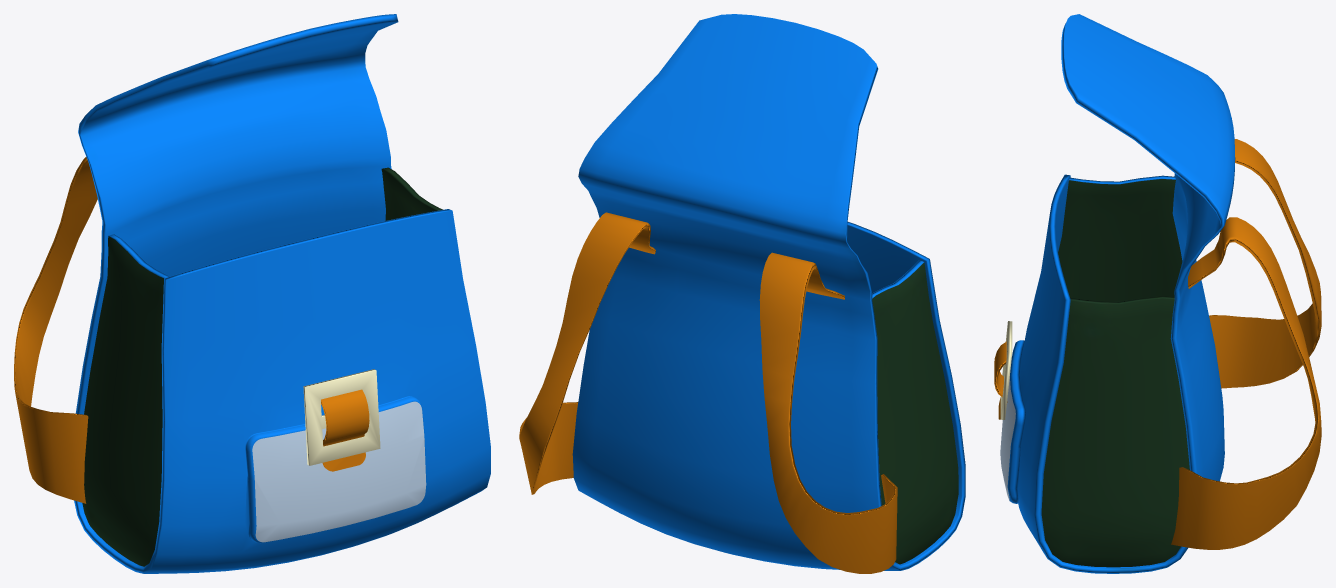
Rendered from BackPackNull.fbx.
3 renders of one model, left to right at view 1: azimuth 30°, elevation 25°; view 2: azimuth 150°, elevation 25°; view 3: azimuth 270°, elevation 25°, orthographic. The views are drawn at different scales.
Visible parts, largest first — view 1: shubao; view 2: shubao; view 3: shubao.
Boxes of the visible parts, x1,y1,x2,y2 form: shubao: (14,14,490,573); shubao: (519,14,965,573); shubao: (994,14,1321,573).
Bounding box in the file's own units: 37.6 × 48.91 × 30.79.
